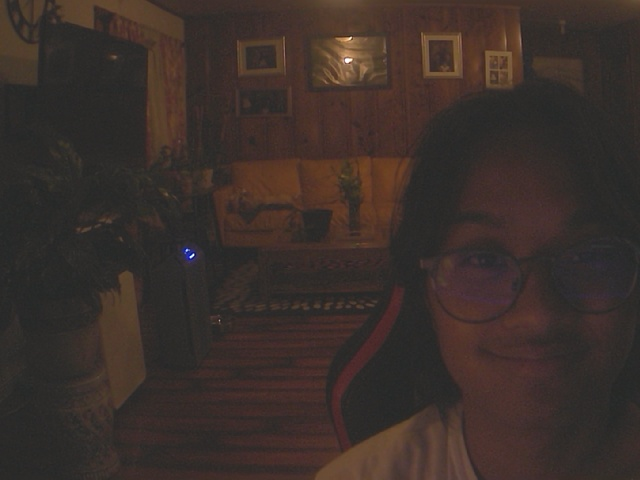happy: (386, 76, 639, 434)
